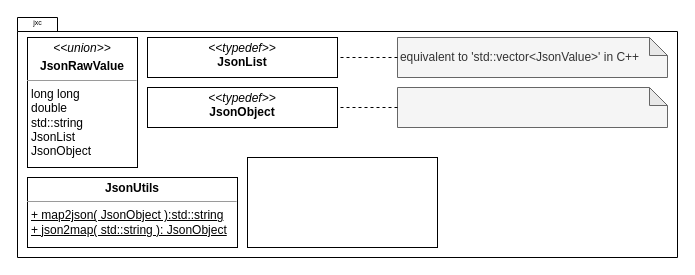
Image size: 695x275. Some labels were removed from this diagram. Each missing label, with the centre of its shape:
<<struct>> JsonValue + value: JsonRawValue + type: std::type_info: pixel 342 202
equivalent to 'std::map<std::string, JsonValue>' in C++: pixel 532 107
